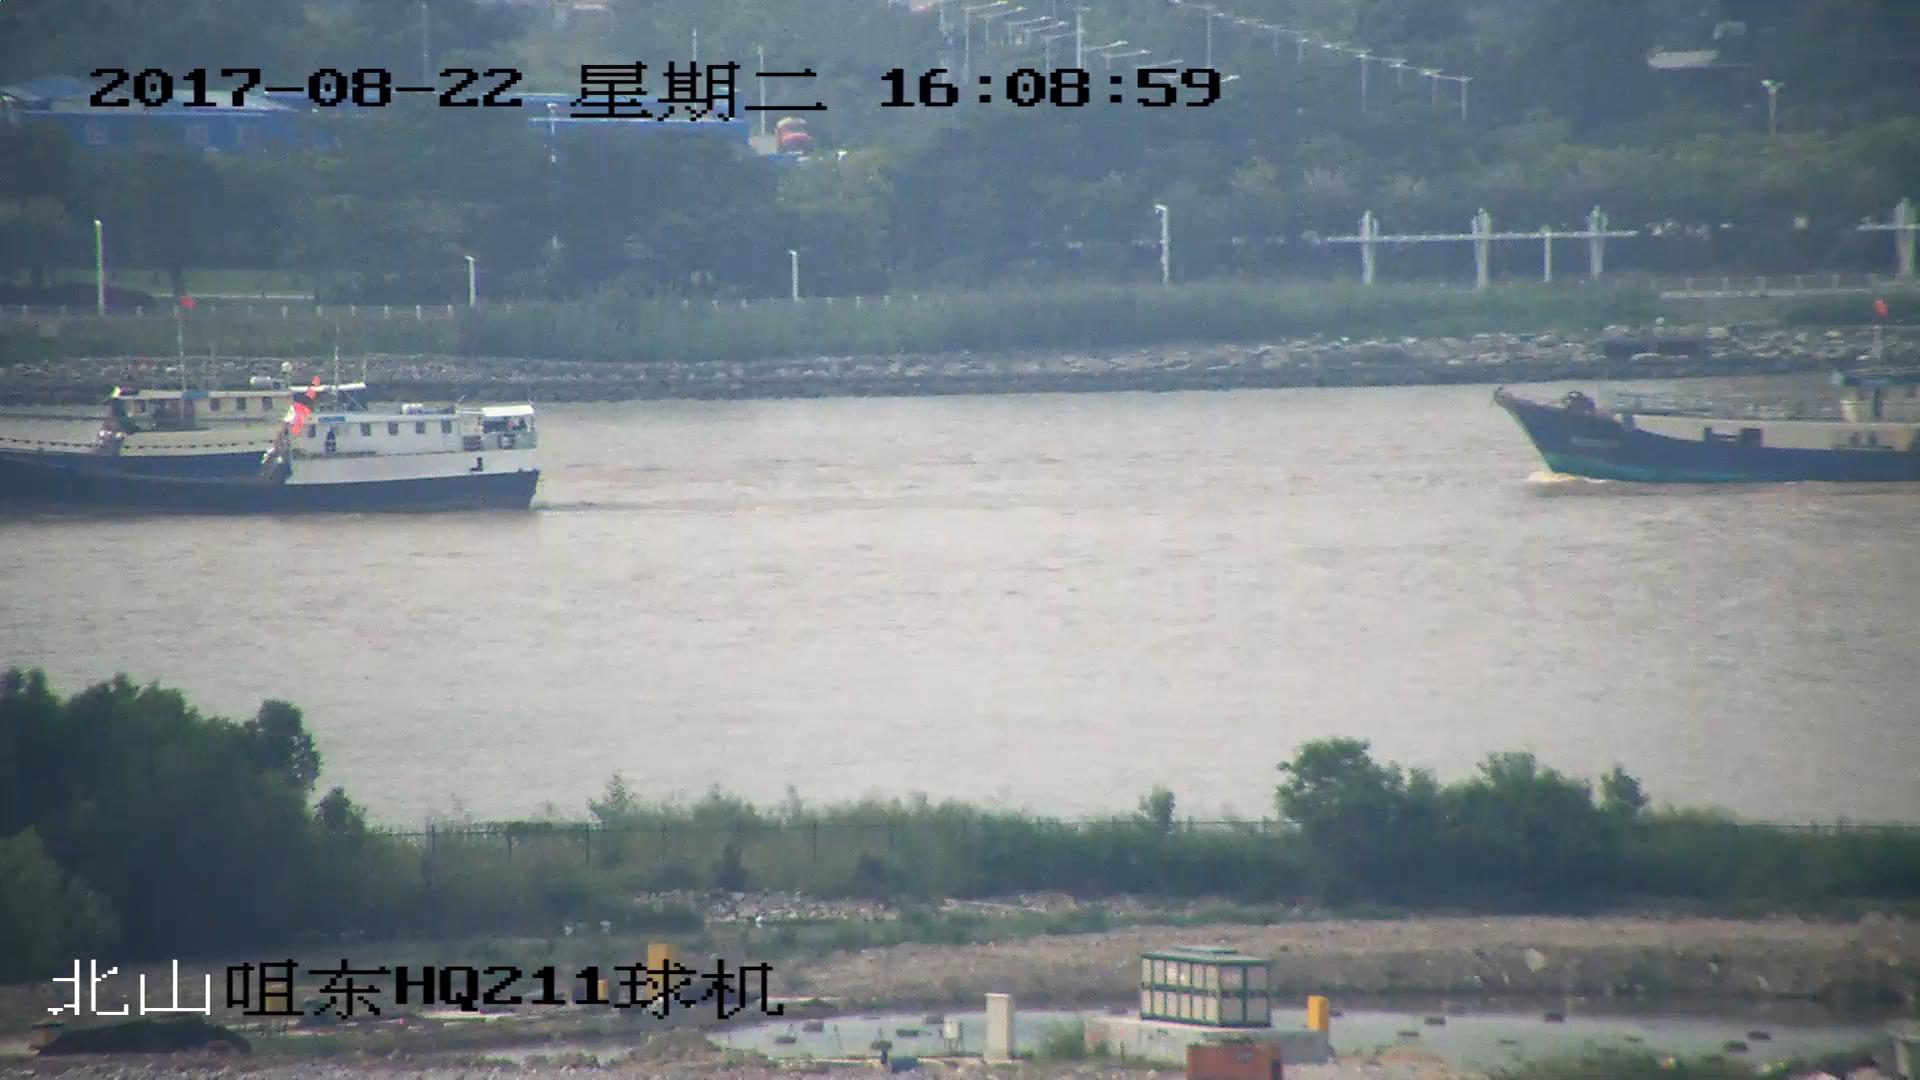fishing boat: (1499, 301, 1920, 481), (1, 288, 380, 464), (1, 399, 546, 519)
